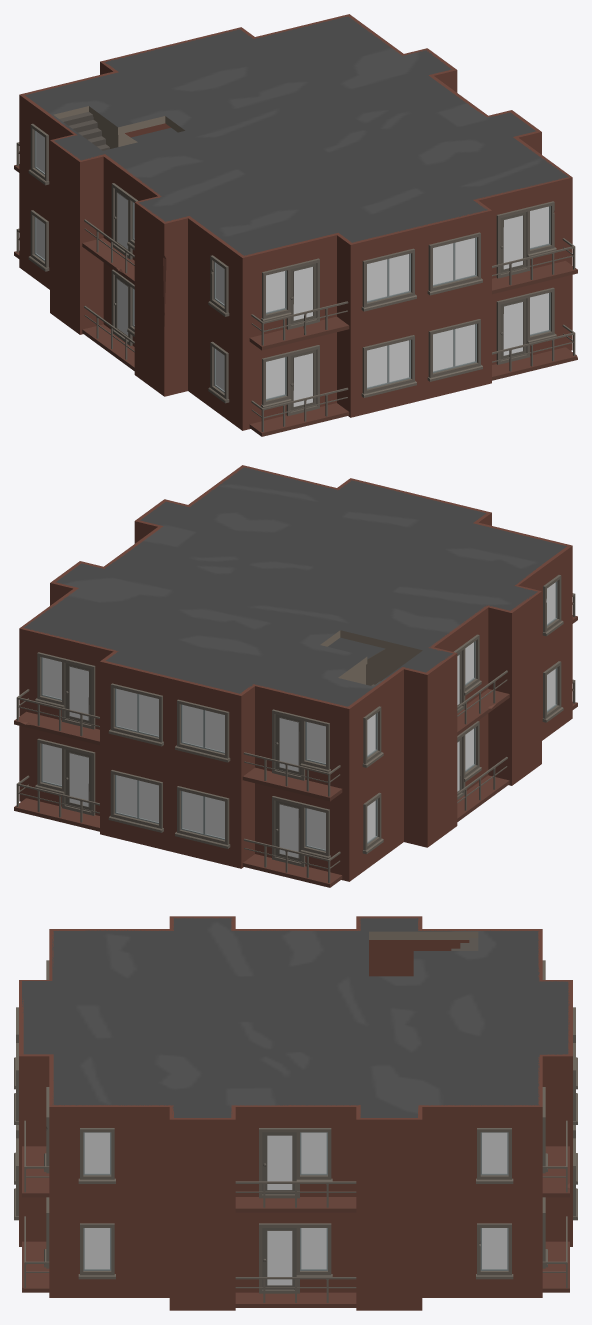
The model's file is SM_Bldg_City_Commercial_01_Mid.fbx.
The picture shows the model from 3 angles, top to bottom: view 1: azimuth 30°, elevation 25°; view 2: azimuth 150°, elevation 25°; view 3: azimuth 270°, elevation 25°; orthographic projection. The views are drawn at different scales.
Visible parts, largest first — view 1: SM_Bldg_City_Commercial_01_Mid, SM_Bldg_City_Commercial_01_Mid_Glass; view 2: SM_Bldg_City_Commercial_01_Mid, SM_Bldg_City_Commercial_01_Mid_Glass; view 3: SM_Bldg_City_Commercial_01_Mid, SM_Bldg_City_Commercial_01_Mid_Glass.
Part boxes in pixels (bbox=[...]): SM_Bldg_City_Commercial_01_Mid: bbox=[14, 14, 577, 436]; SM_Bldg_City_Commercial_01_Mid_Glass: bbox=[36, 131, 548, 398]; SM_Bldg_City_Commercial_01_Mid: bbox=[14, 465, 577, 887]; SM_Bldg_City_Commercial_01_Mid_Glass: bbox=[43, 582, 555, 849]; SM_Bldg_City_Commercial_01_Mid: bbox=[14, 916, 577, 1310]; SM_Bldg_City_Commercial_01_Mid_Glass: bbox=[84, 1132, 507, 1268].
Size of the model in its own units: 1600 by 700 by 1874.
